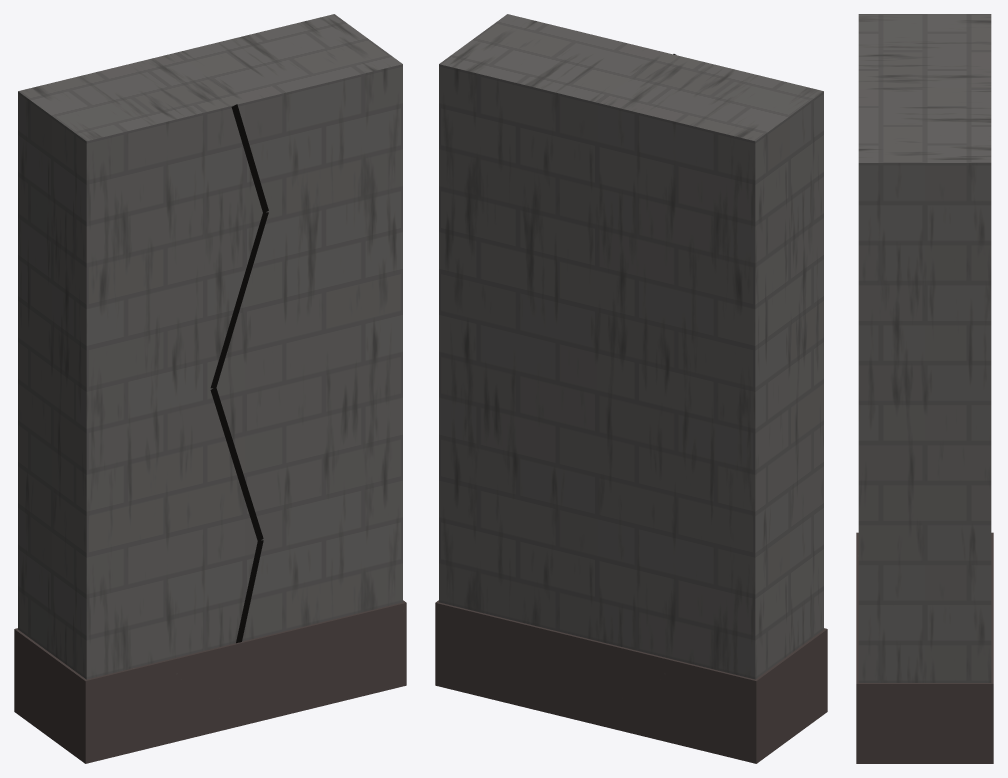
File: SM_Souq_GateWall.fbx
3 renders of one model, left to right at view 1: azimuth 30°, elevation 25°; view 2: azimuth 150°, elevation 25°; view 3: azimuth 270°, elevation 25°, orthographic. The views are drawn at different scales.
Visible parts, largest first — view 1: SM_Souq_GateWall; view 2: SM_Souq_GateWall; view 3: SM_Souq_GateWall.
Boxes of the visible parts, x1,y1,x2,y2 form: SM_Souq_GateWall: (14,14,406,763); SM_Souq_GateWall: (435,14,827,763); SM_Souq_GateWall: (856,14,993,763).
Size of the model in its own units: 162 by 300 by 62.4.
Materials: 3 (3 with a texture image).
